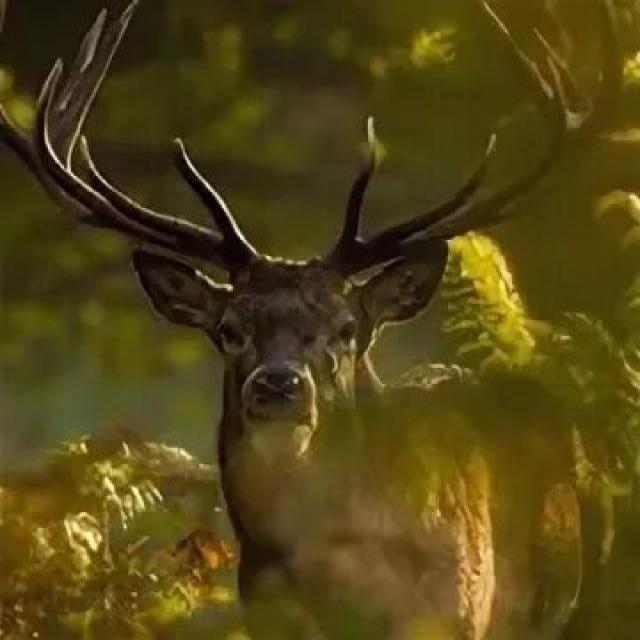deer: (63, 122, 602, 638)
